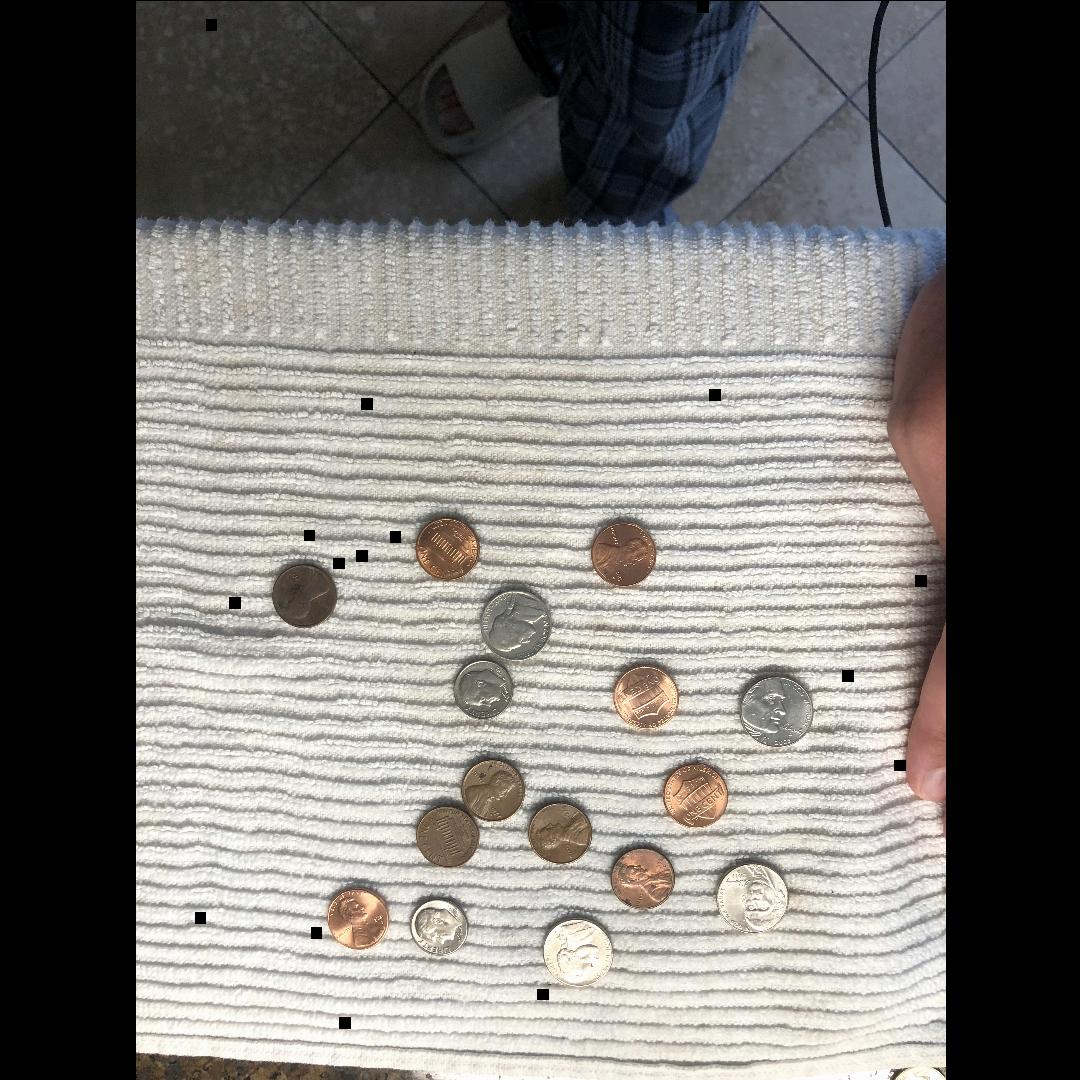Dime: (449, 653, 515, 723), (407, 895, 469, 956)
Nickel: (735, 669, 817, 748), (712, 856, 790, 934), (537, 912, 615, 990), (478, 584, 550, 660)
Penny: (610, 660, 678, 734), (660, 759, 728, 833), (268, 556, 335, 630), (588, 518, 656, 586), (412, 514, 481, 581), (608, 843, 675, 910), (324, 882, 388, 952), (525, 797, 591, 863), (412, 801, 478, 867), (459, 756, 523, 820)
